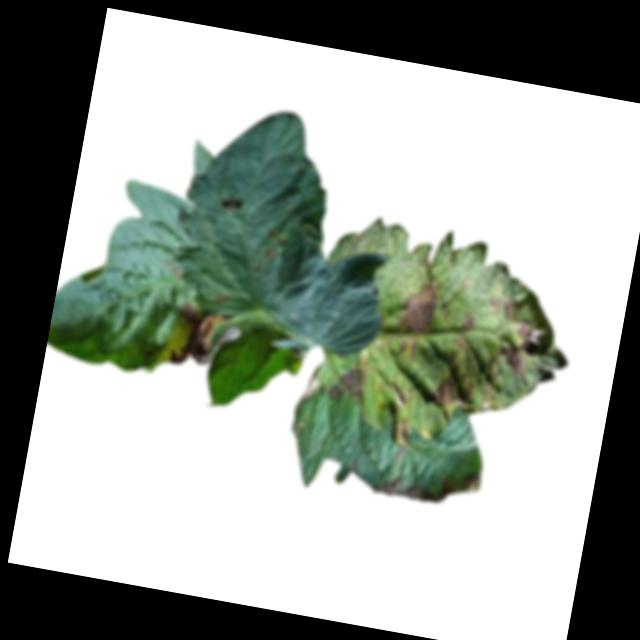Early_blight: (371, 455, 482, 512), (387, 272, 439, 368), (431, 364, 503, 419), (164, 300, 221, 369), (483, 291, 550, 347), (328, 349, 374, 403), (486, 339, 534, 387), (258, 224, 289, 262), (458, 308, 477, 334), (219, 195, 243, 212)
